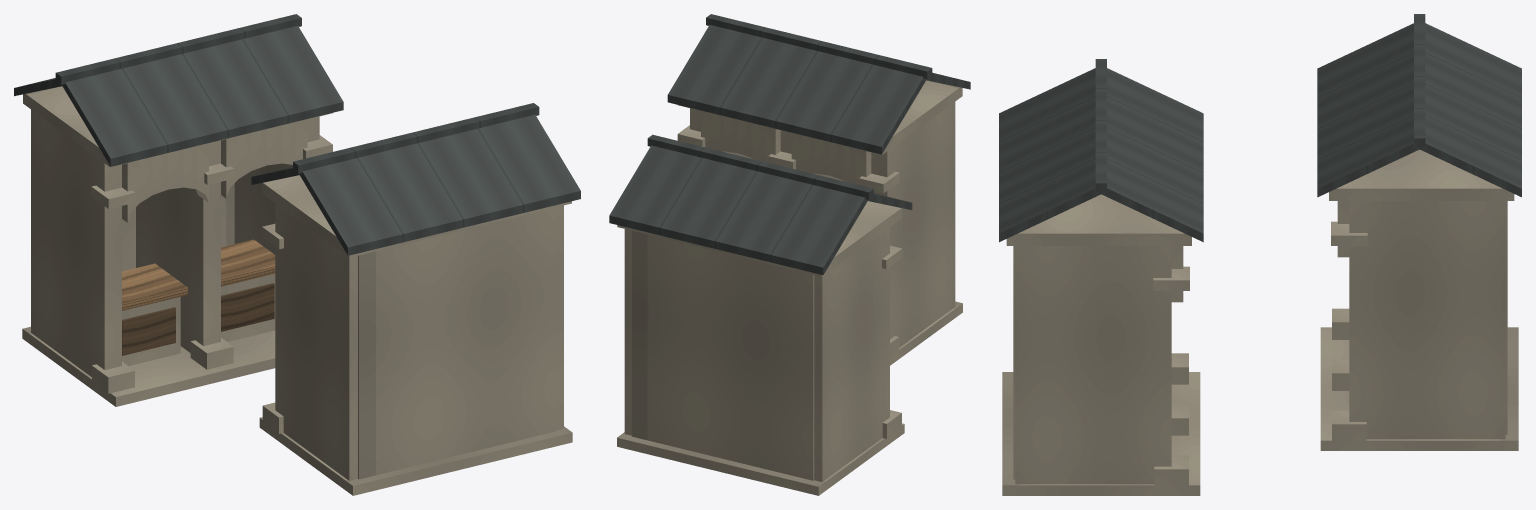
Rendered from moroni.glb.
The picture shows the model from 3 angles, left to right: view 1: azimuth 30°, elevation 25°; view 2: azimuth 150°, elevation 25°; view 3: azimuth 270°, elevation 25°; orthographic projection. The views are drawn at different scales.
Visible parts, largest first — view 1: moroni; view 2: moroni; view 3: moroni.
Boxes of the visible parts, x1,y1,x2,y2 form: moroni: (14,14,580,495); moroni: (609,14,970,495); moroni: (999,14,1521,495).
Bounding box in the file's own units: 2.85 × 2.5 × 3.72.
Materials: 1 (1 with a texture image).
